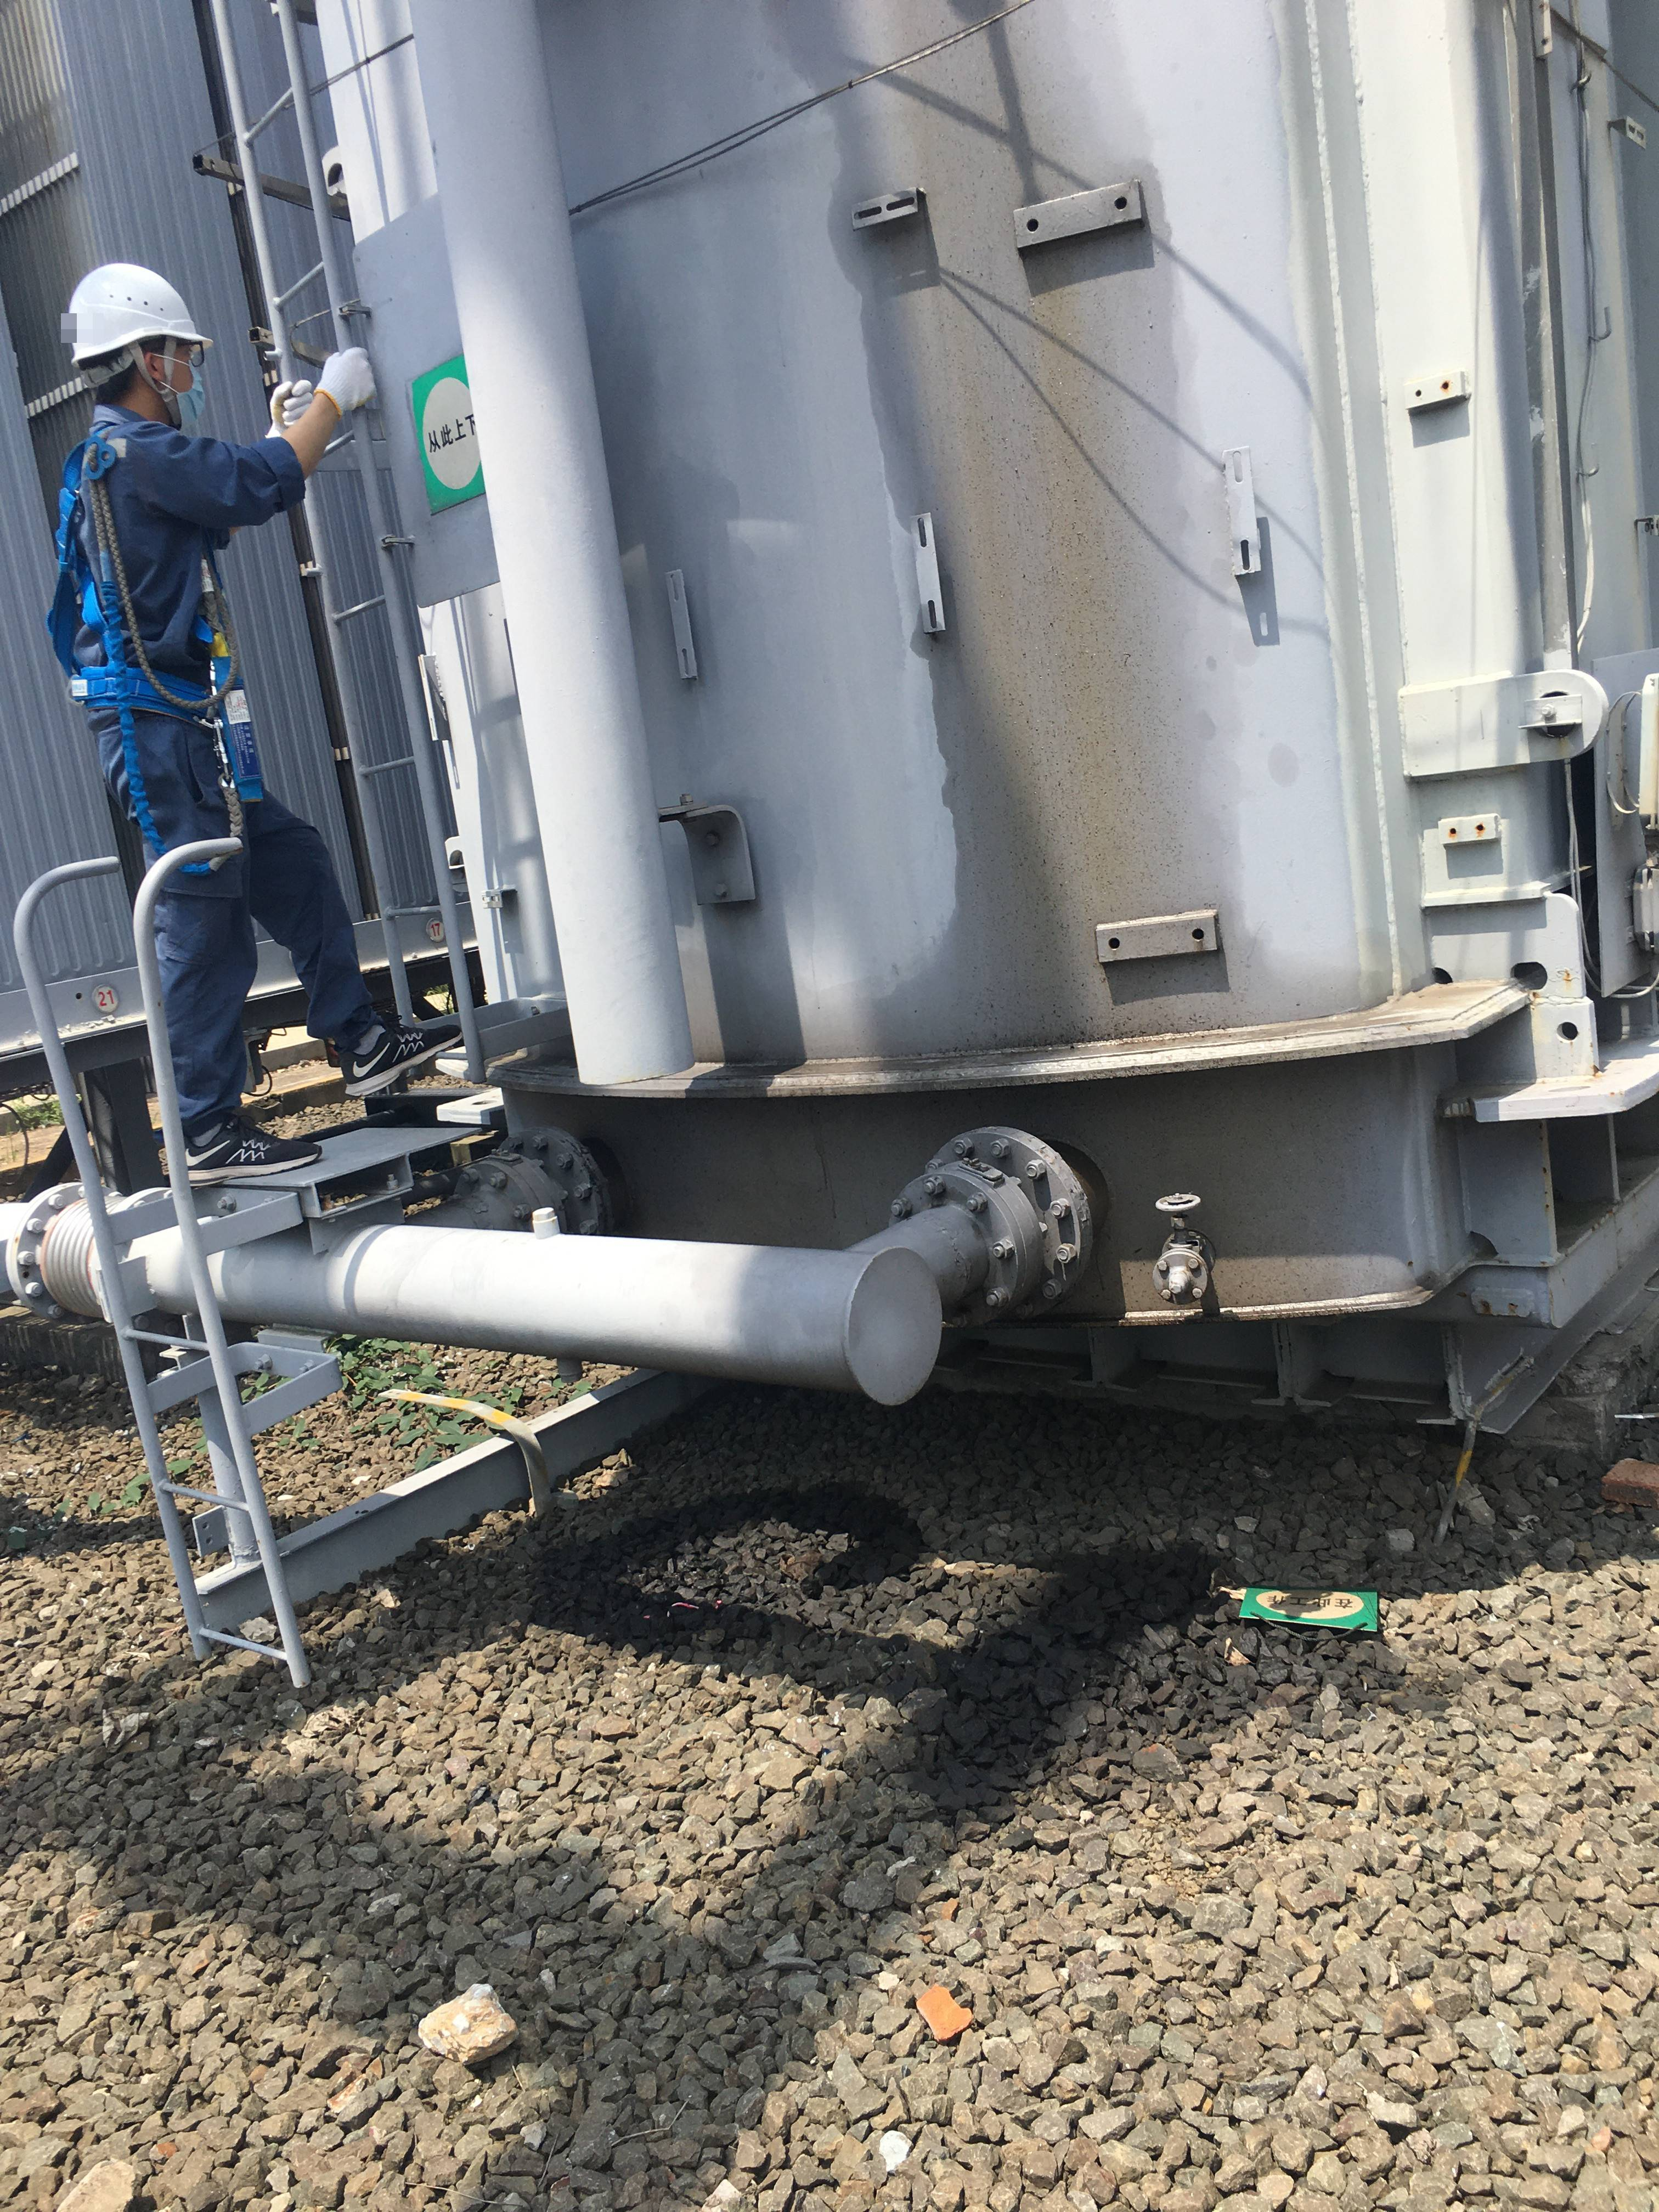downsuit: (87, 725, 389, 1099)
upsuit: (54, 437, 258, 726)
wrongtop: (251, 406, 361, 505)
